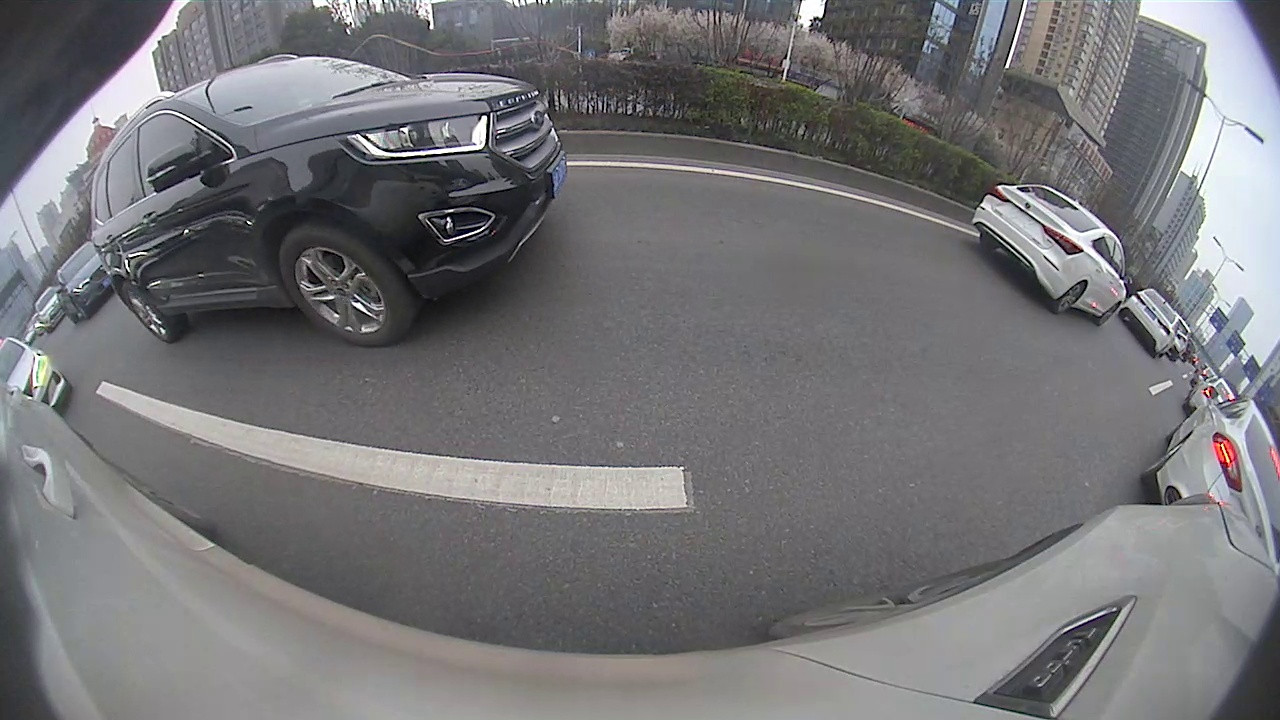car: (88, 53, 568, 349), (1136, 386, 1279, 577), (971, 183, 1136, 328), (53, 241, 113, 323), (1119, 286, 1180, 358)
front: (279, 221, 410, 348)
rear: (118, 284, 173, 343), (1056, 282, 1086, 314)
